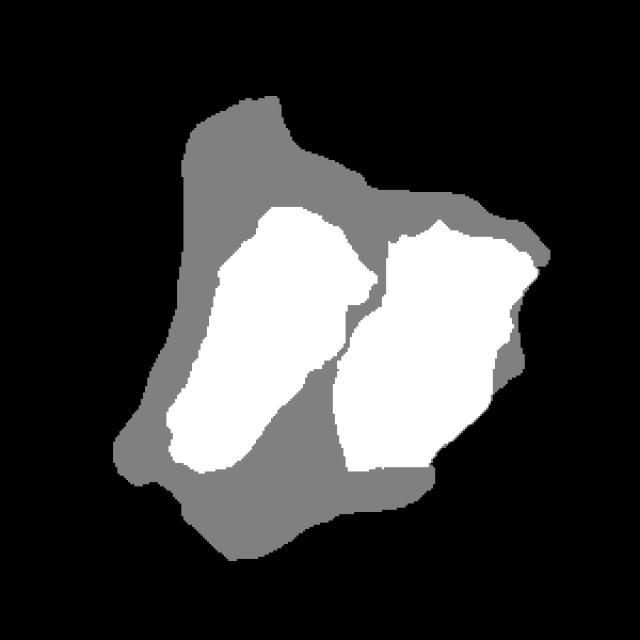WBC: (85, 79, 578, 582)
